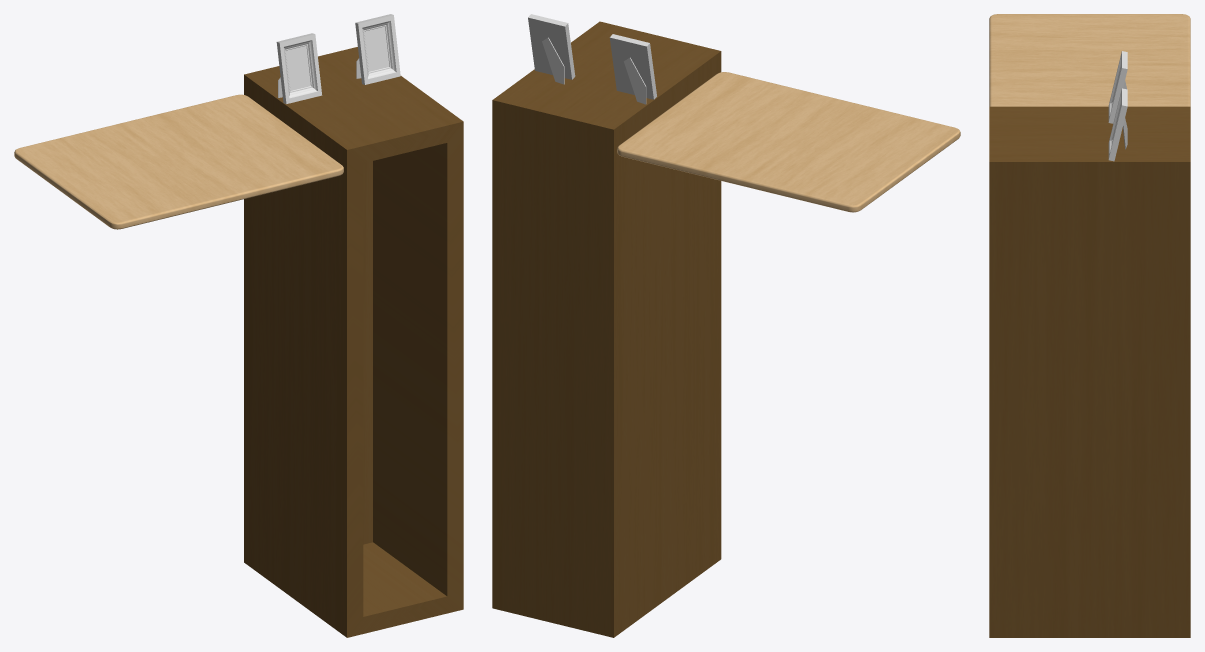
Rendered from stage_1.fbx.
3 renders of one model, left to right at view 1: azimuth 30°, elevation 25°; view 2: azimuth 150°, elevation 25°; view 3: azimuth 270°, elevation 25°, orthographic. The views are drawn at different scales.
Parts seen in each view (by area): view 1: stage_1; view 2: stage_1; view 3: stage_1.
Part boxes in pixels (box(x1,y1,x2,y2)): stage_1: box(14, 14, 463, 637); stage_1: box(492, 14, 960, 637); stage_1: box(989, 14, 1190, 637).
Size of the model in its own units: 450 by 670 by 230.
Materials: 3 (2 with a texture image).
